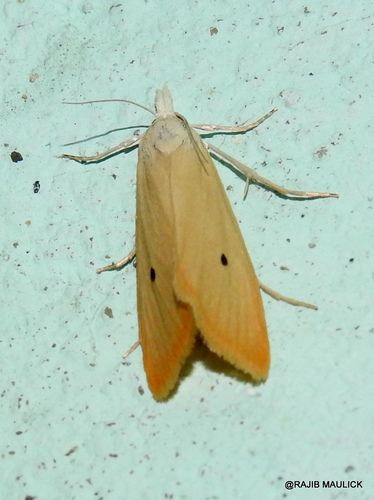Crambidae: (64, 86, 348, 405)
